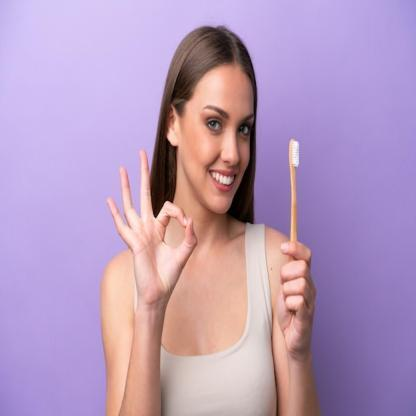ok: (105, 148, 199, 308)
